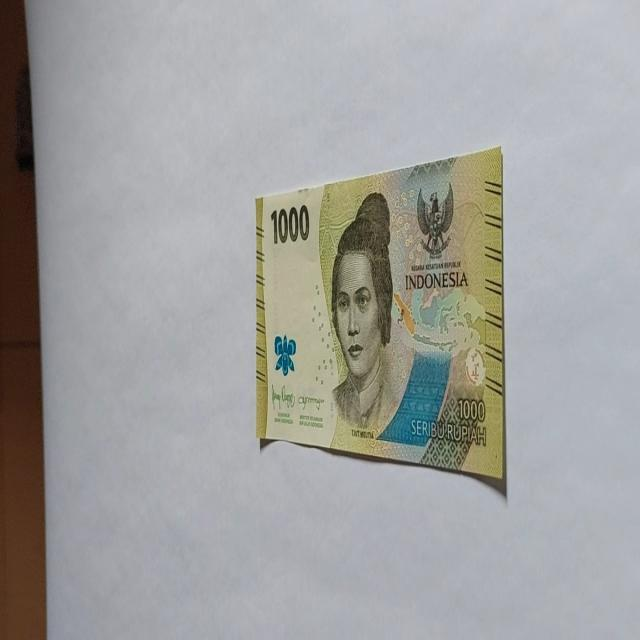seribu rupiah kertas: (254, 144, 506, 496)
